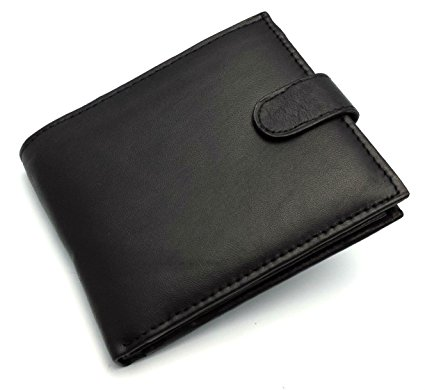monedero: (18, 10, 412, 369)
